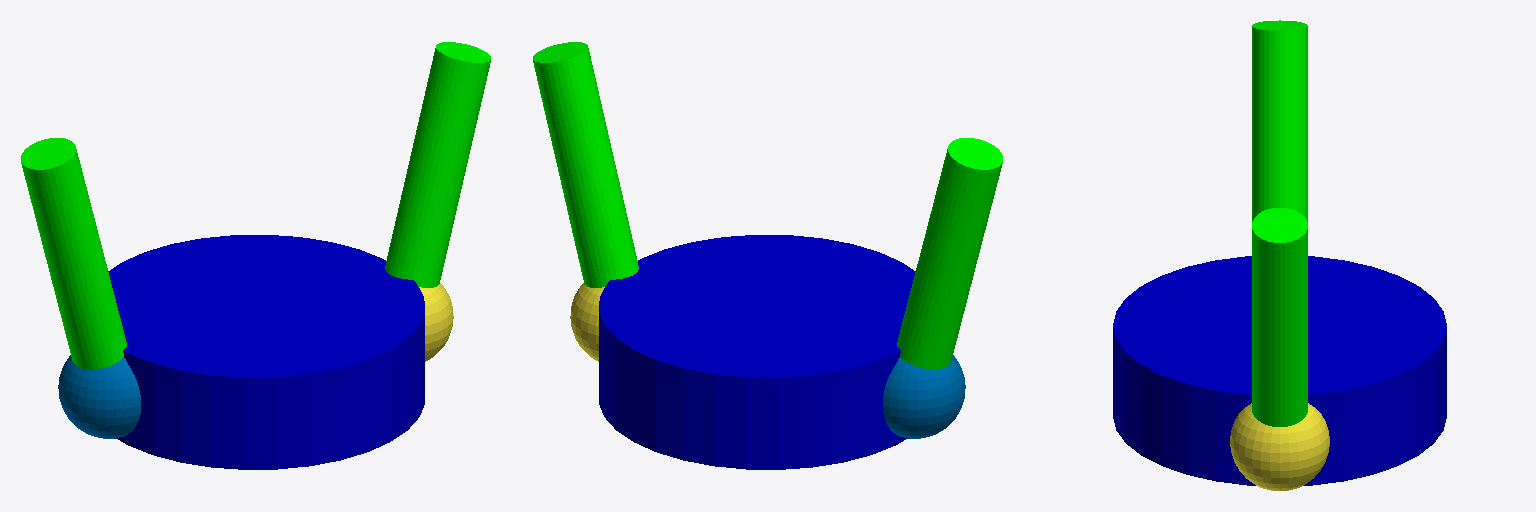
robot.urdf — gripper_2f_1j:
<?xml version='1.0' encoding='UTF-8'?>
<robot name="gripper_2f_1j">
  <link name="palm">
    <inertial>
      <origin xyz="0.0 0.0 0.0" rpy="0.0 -0.0 0.0"/>
      <mass value="1.0"/>
      <inertia ixx="1.0" ixy="0.0" ixz="0.0" iyy="1.0" iyz="0.0" izz="1.0"/>
    </inertial>
    <visual>
      <geometry>
        <cylinder radius="0.05" length="0.03"/>
      </geometry>
      <material name="blue"/>
      <origin xyz="0.0 0.0 0.0" rpy="0.0 -0.0 0.0"/>
    </visual>
    <collision>
      <geometry>
        <cylinder radius="0.05" length="0.03"/>
      </geometry>
      <origin xyz="0.0 0.0 0.0" rpy="0.0 0.0 0.0"/>
    </collision>
  </link>
  <link name="f11">
    <inertial>
      <origin xyz="0.0 0.0 0.0" rpy="0.0 -0.0 0.0"/>
      <mass value="1.0"/>
      <inertia ixx="1.0" ixy="0.0" ixz="0.0" iyy="1.0" iyz="0.0" izz="1.0"/>
    </inertial>
    <visual>
      <geometry>
        <cylinder radius="0.008411380641517125" length="0.0836376572710307"/>
      </geometry>
      <material name="green"/>
      <origin xyz="0.0 0.0 0.04181882863551535" rpy="0.0 -0.0 0.0"/>
    </visual>
    <collision>
      <geometry>
        <cylinder radius="0.008411380641517125" length="0.0836376572710307"/>
      </geometry>
      <origin xyz="0.0 0.0 0.05" rpy="0.0 0.0 0.0"/>
    </collision>
  </link>
  <link name="f21">
    <inertial>
      <origin xyz="0.0 0.0 0.0" rpy="0.0 -0.0 0.0"/>
      <mass value="1.0"/>
      <inertia ixx="1.0" ixy="0.0" ixz="0.0" iyy="1.0" iyz="0.0" izz="1.0"/>
    </inertial>
    <visual>
      <geometry>
        <cylinder radius="0.008411380641517125" length="0.0836376572710307"/>
      </geometry>
      <material name="green"/>
      <origin xyz="0.0 0.0 0.04181882863551535" rpy="0.0 -0.0 0.0"/>
    </visual>
    <collision>
      <geometry>
        <cylinder radius="0.008411380641517125" length="0.0836376572710307"/>
      </geometry>
      <origin xyz="0.0 0.0 0.05" rpy="0.0 0.0 0.0"/>
    </collision>
  </link>
  <link name="f11_base">
    <inertial>
      <origin xyz="0.0 0.0 0.0" rpy="0.0 -0.0 0.0"/>
      <mass value="1.0"/>
      <inertia ixx="1.0" ixy="0.0" ixz="0.0" iyy="1.0" iyz="0.0" izz="1.0"/>
    </inertial>
    <visual>
      <geometry>
        <sphere radius="0.015"/>
      </geometry>
      <origin xyz="0.0 0.0 0.0" rpy="0.0 -0.0 0.0"/>
    </visual>
  </link>
  <link name="f21_base">
    <inertial>
      <origin xyz="0.0 0.0 0.0" rpy="0.0 -0.0 0.0"/>
      <mass value="1.0"/>
      <inertia ixx="1.0" ixy="0.0" ixz="0.0" iyy="1.0" iyz="0.0" izz="1.0"/>
    </inertial>
    <visual>
      <geometry>
        <sphere radius="0.015"/>
      </geometry>
      <origin xyz="0.0 0.0 0.0" rpy="0.0 -0.0 0.0"/>
    </visual>
  </link>
  <joint name="f11_joint" type="revolute">
    <dynamics damping="100.0" friction="1.0"/>
    <limit effort="30.0" velocity="2.0" lower="-0.6" upper="0.25"/>
    <parent link="f11_base"/>
    <child link="f11"/>
    <axis xyz="0. 1. 0."/>
    <origin xyz="0.0 0.0 0.0" rpy="0.0 0.25 0.0"/>
  </joint>
  <joint name="f21_joint" type="revolute">
    <dynamics damping="100.0" friction="1.0"/>
    <limit effort="30.0" velocity="2.0" lower="-0.6" upper="0.25"/>
    <parent link="f21_base"/>
    <child link="f21"/>
    <axis xyz=" 0. -1.  0."/>
    <origin xyz="0.0 0.0 0.0" rpy="0.0 -0.25 0.0"/>
  </joint>
  <joint name="f11_base_joint" type="fixed">
    <parent link="palm"/>
    <child link="f11_base"/>
    <axis xyz="1. 0. 0."/>
    <origin xyz="0.05 0.0 0.0" rpy="0.0 0.0 0.0"/>
  </joint>
  <joint name="f21_base_joint" type="fixed">
    <parent link="palm"/>
    <child link="f21_base"/>
    <axis xyz="1. 0. 0."/>
    <origin xyz="-0.05 -0.0 0.0" rpy="0.0 0.0 0.0"/>
  </joint>
  <material name="blue">
    <color rgba="0.  0.  0.8 1. "/>
  </material>
  <material name="green">
    <color rgba="0. 1. 0. 1."/>
  </material>
</robot>

--- Facts derived from the render (not from the file) ---
Views: 3 orthographic renders of the robot side by side, from view 1: azimuth 30°, elevation 25°; view 2: azimuth 150°, elevation 25°; view 3: azimuth 270°, elevation 25°.
Robot: gripper_2f_1j — 5 links, 4 joints (2 revolute, 2 fixed); root link palm; default pose: every joint at zero.
Visible links, largest first — view 1: palm, f11, f21, f21_base, f11_base; view 2: palm, f11, f21, f21_base, f11_base; view 3: palm, f11, f21, f11_base.
Boxes of the visible links, x1,y1,x2,y2 form: palm: (108,235,424,469); f11: (385,42,490,287); f21: (21,138,126,369); f21_base: (58,355,140,438); f11_base: (419,283,453,361); palm: (599,235,915,469); f11: (533,42,638,287); f21: (897,138,1002,369); f21_base: (883,355,965,438); f11_base: (570,283,604,361); palm: (1113,256,1446,485); f11: (1252,208,1307,426); f21: (1252,20,1307,221); f11_base: (1230,403,1329,490).
Size in the robot's own frame: 0.1577 by 0.1 by 0.0981 metres.
Geometry: primitives only (box / cylinder / sphere), no mesh files.